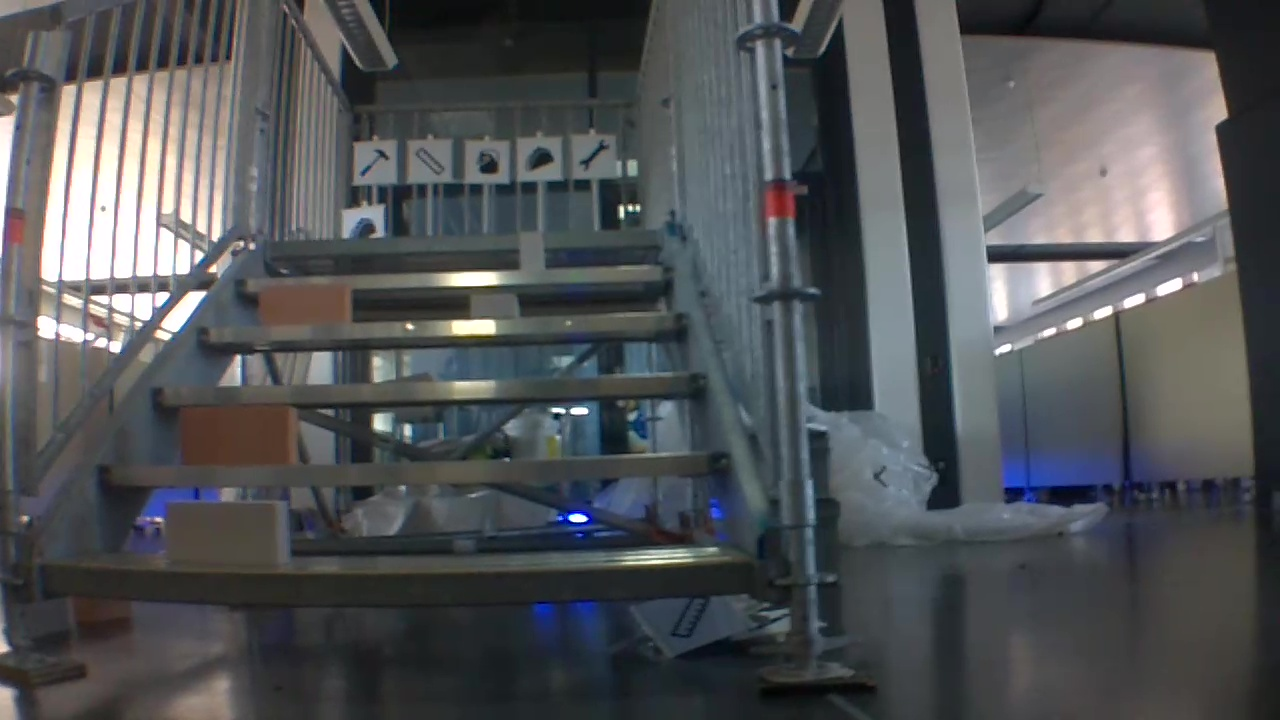brick: (167, 497, 290, 567), (180, 409, 296, 463), (258, 282, 351, 323), (471, 297, 517, 316), (522, 231, 543, 270)
bucket: (470, 144, 504, 177)
edge: (43, 558, 751, 602), (98, 451, 729, 490), (148, 372, 704, 404), (196, 311, 690, 339), (236, 264, 673, 287), (266, 228, 664, 250)
hammer: (354, 144, 393, 179)
ruler: (408, 144, 448, 176)
stairs: (0, 1, 879, 698)
steps: (39, 222, 761, 620)
taco: (519, 142, 555, 174), (342, 210, 381, 239)
wrench: (574, 137, 612, 175)
